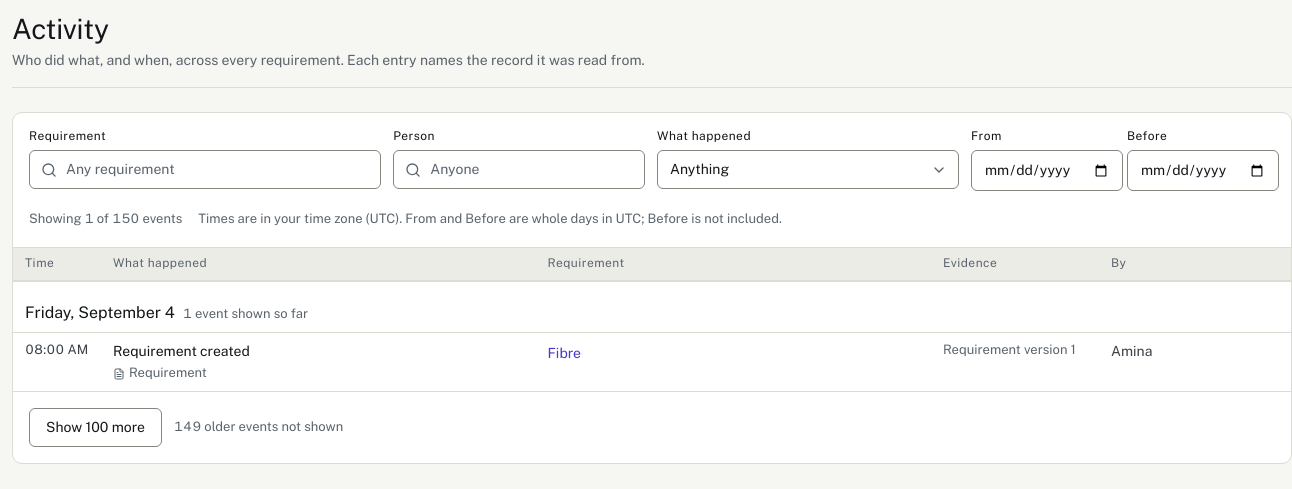
Scenario: activity › says how many events are not shown, and loads the next page
What coordinates should you click on to do the following:
click the button "Show 100 more"
I would click on:
 (96, 428)
Its box is top-left (29, 408), bottom-right (162, 447).
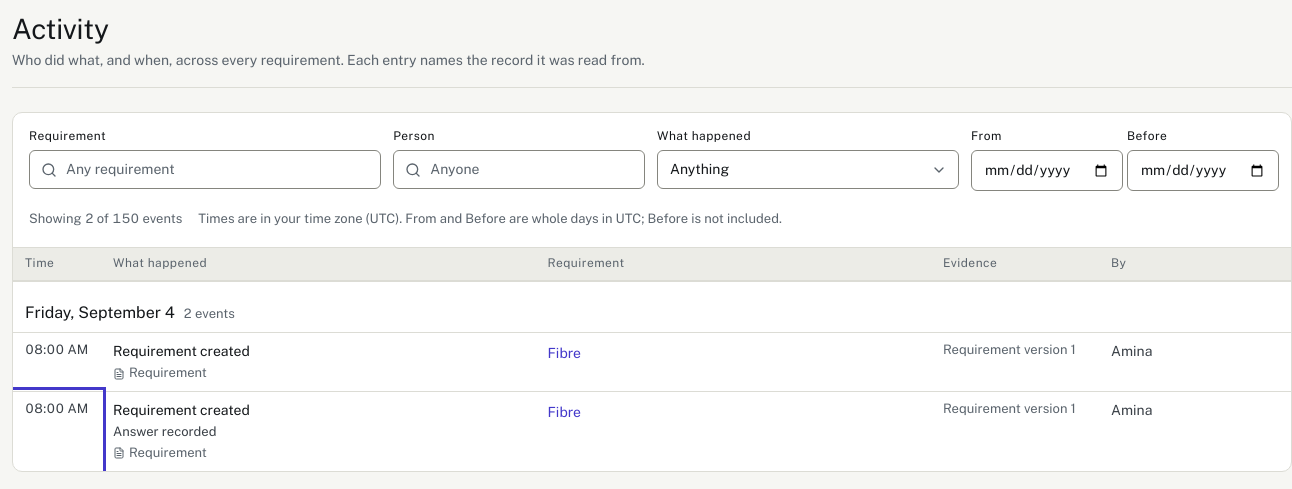
Expected: the text "Answer recorded" is shown, top-left (113, 424), bottom-right (216, 439)
